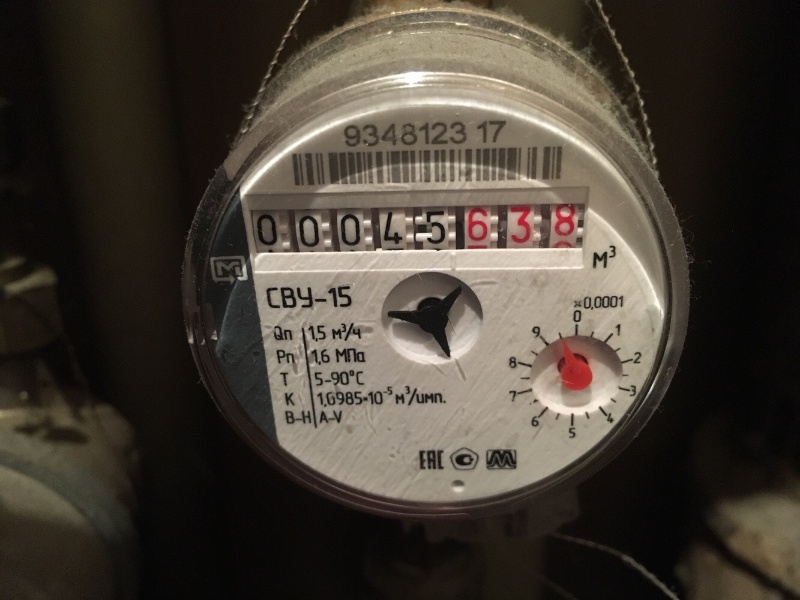dial: (238, 198, 591, 262)
